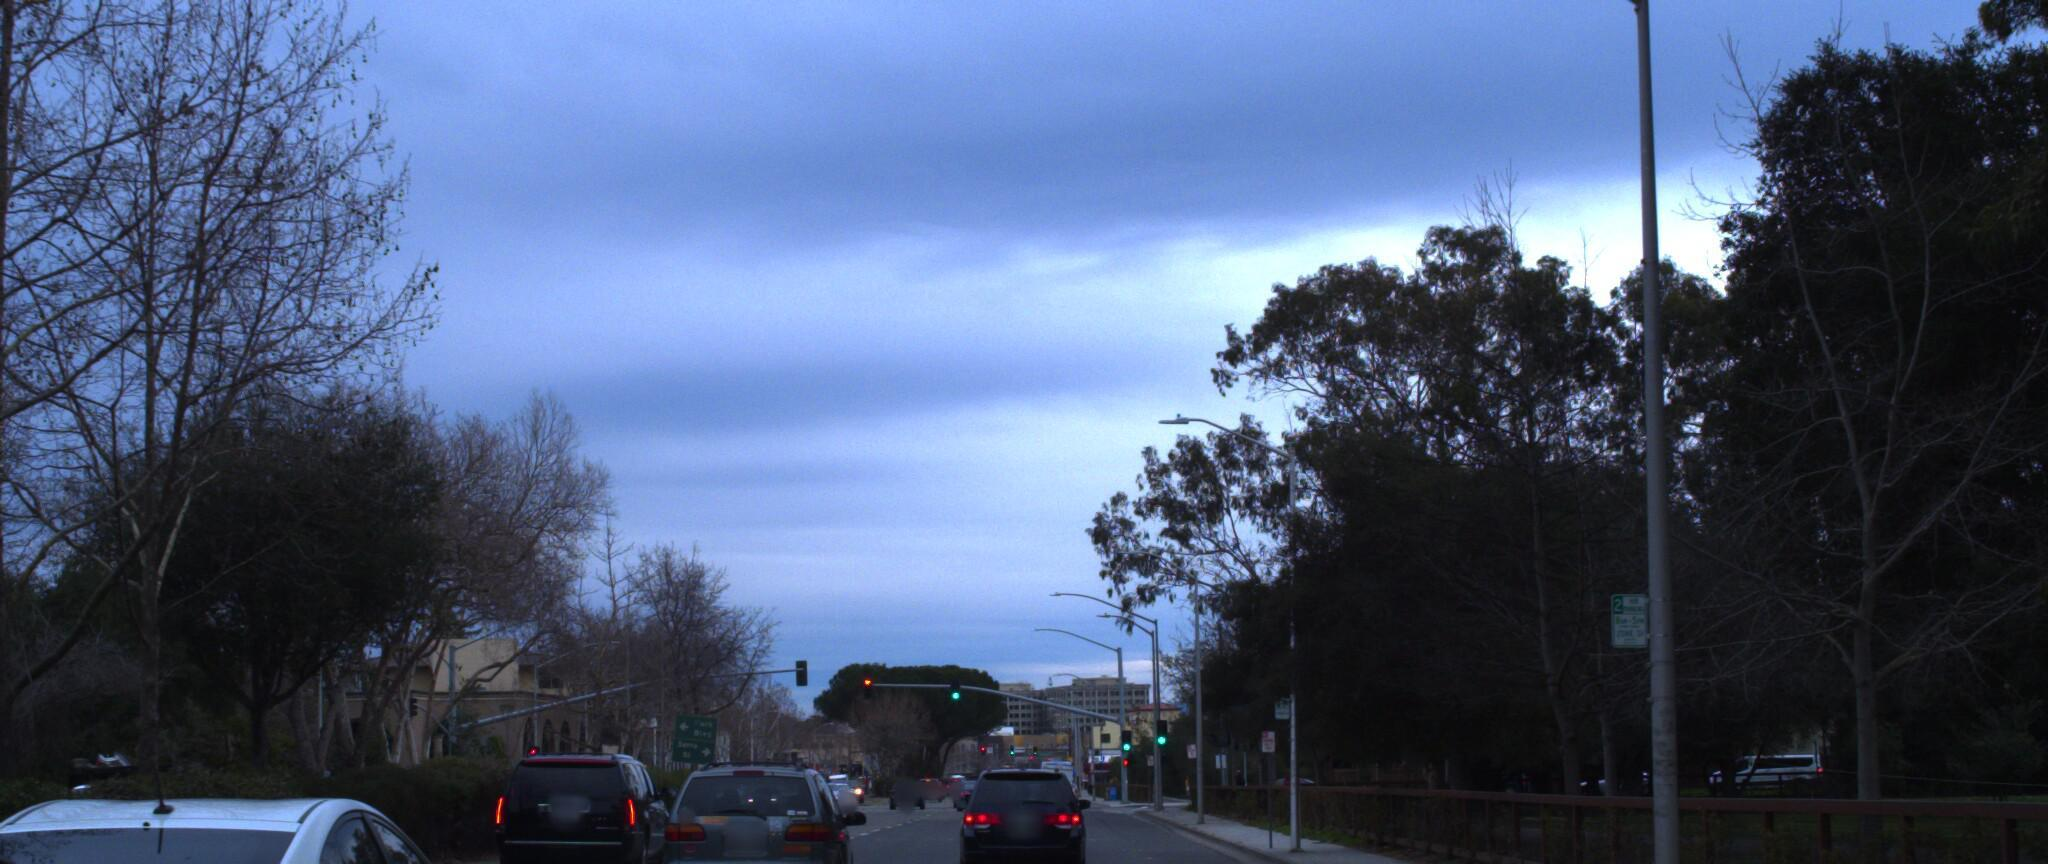car: (0, 770, 539, 864), (650, 737, 856, 864), (495, 735, 674, 864), (950, 754, 1084, 864)
